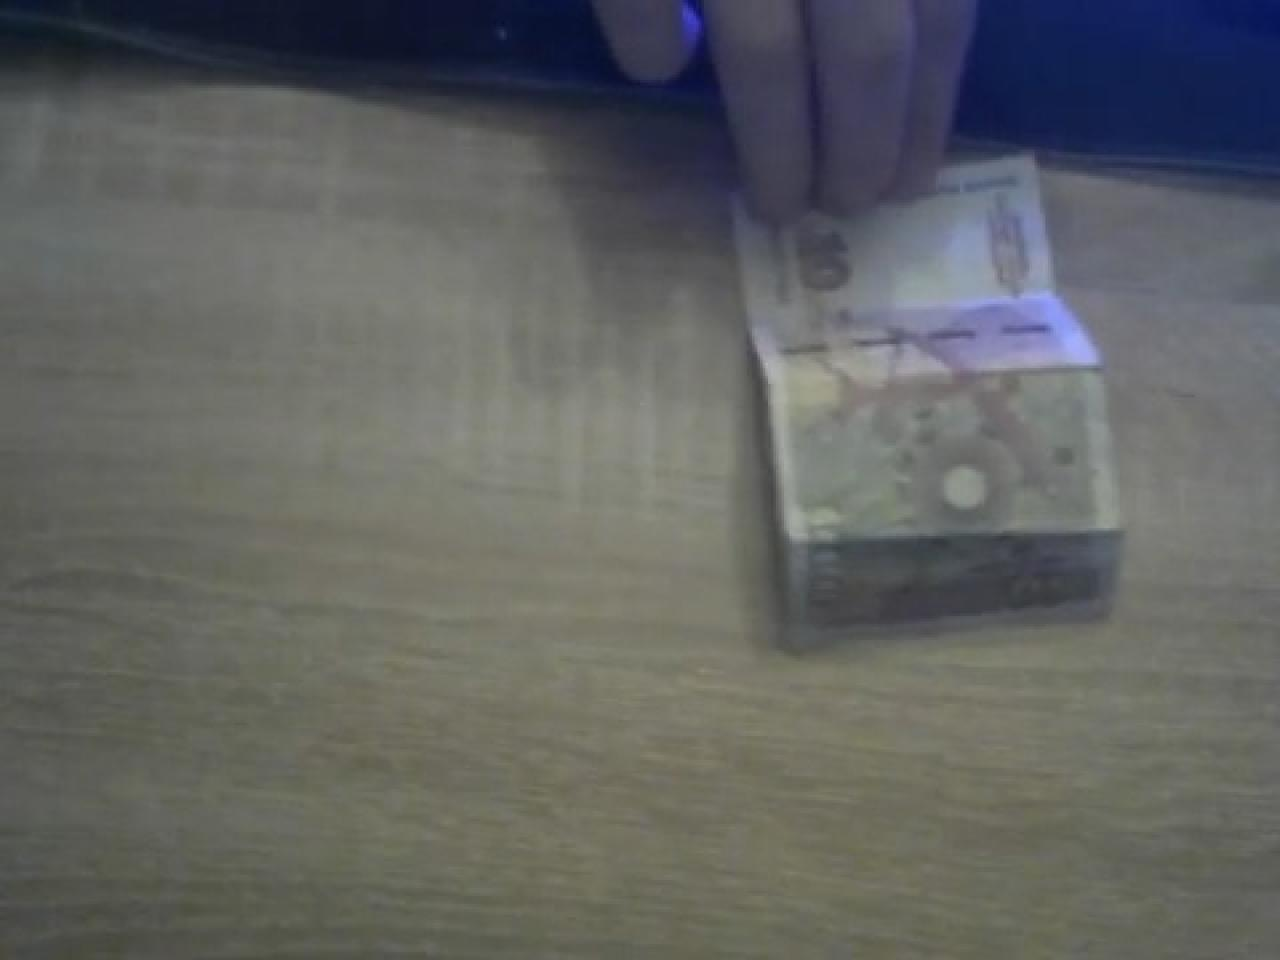10leva: (742, 157, 1128, 656)
